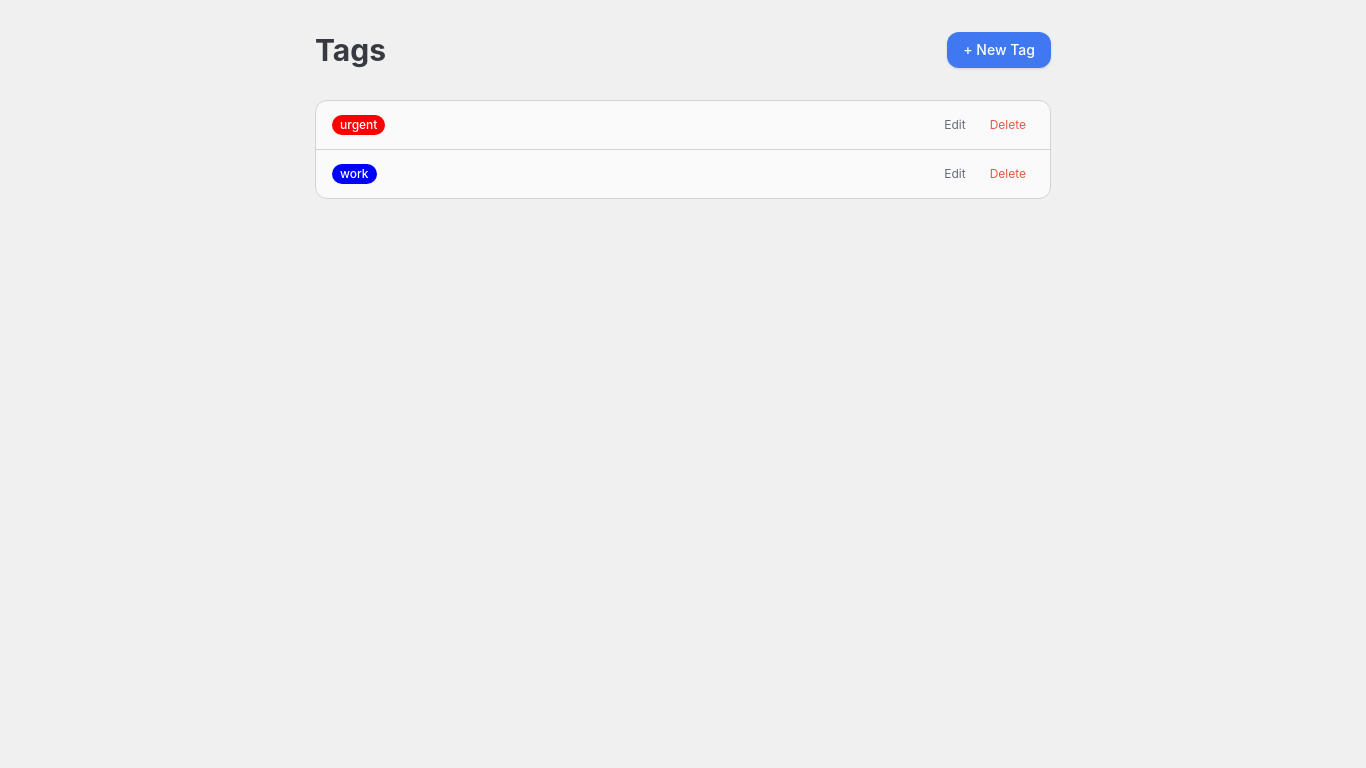
TagsPage › edit tag › opens the edit modal pre-filled when Edit is clicked
This screenshot has width=1366, height=768.
Expected: the text "urgent" is shown, [332,115,385,135]
Step 1. Click the button "Edit" in the row of "urgent" → (955, 125), box [936,113,974,137]
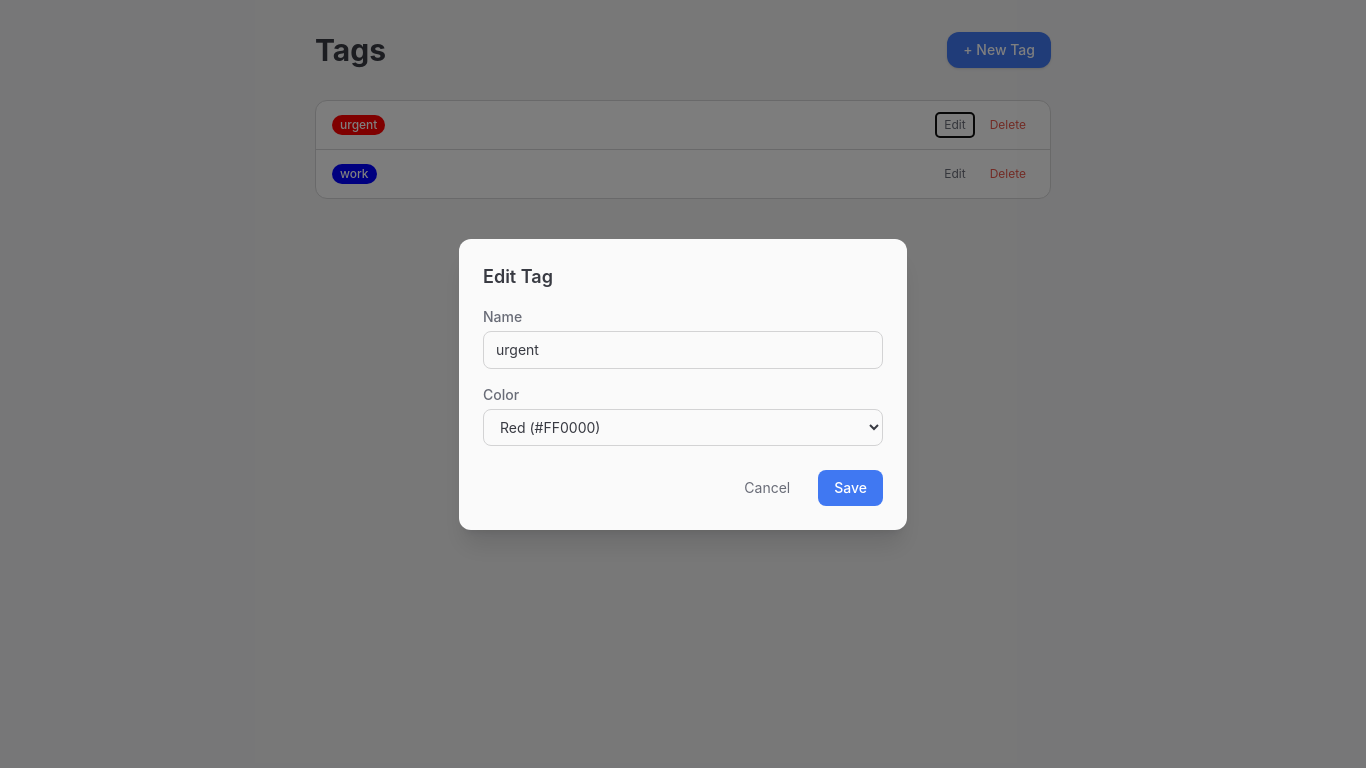
Now the heading "Edit Tag" is shown, box [483,266,553,286]
Now the field showing "urgent" is shown, box [483,330,883,368]
